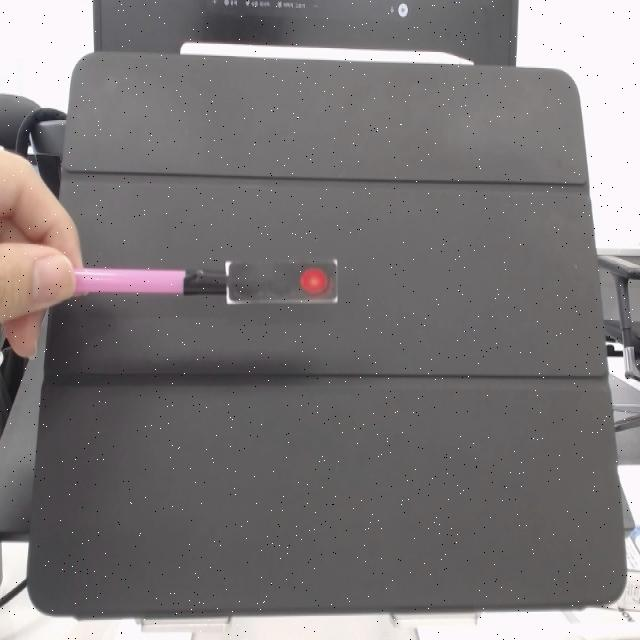traffic light: (224, 259, 342, 307)
